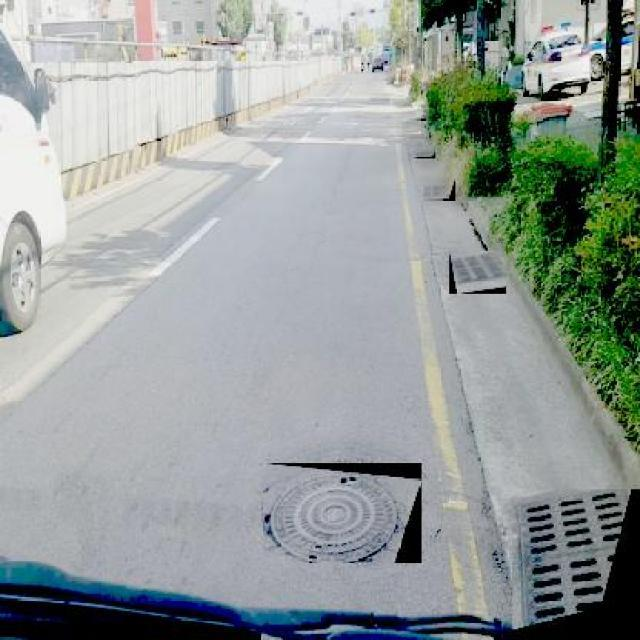Manhole: (512, 489, 640, 640), (263, 463, 422, 563), (449, 252, 506, 294), (422, 178, 456, 200), (410, 144, 436, 158), (406, 119, 426, 128), (406, 132, 428, 138)
